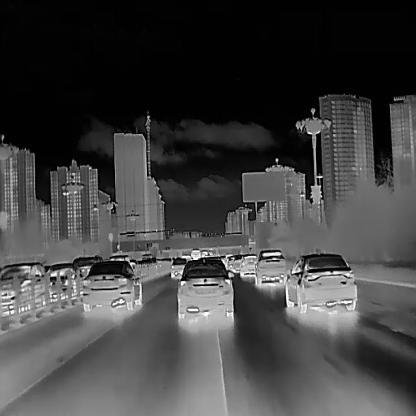car: (286, 252, 356, 313), (177, 257, 234, 319), (81, 259, 141, 311), (0, 260, 47, 315), (41, 262, 81, 305), (253, 248, 288, 285), (70, 255, 103, 280), (239, 253, 258, 278), (226, 254, 240, 273), (190, 247, 200, 258)
